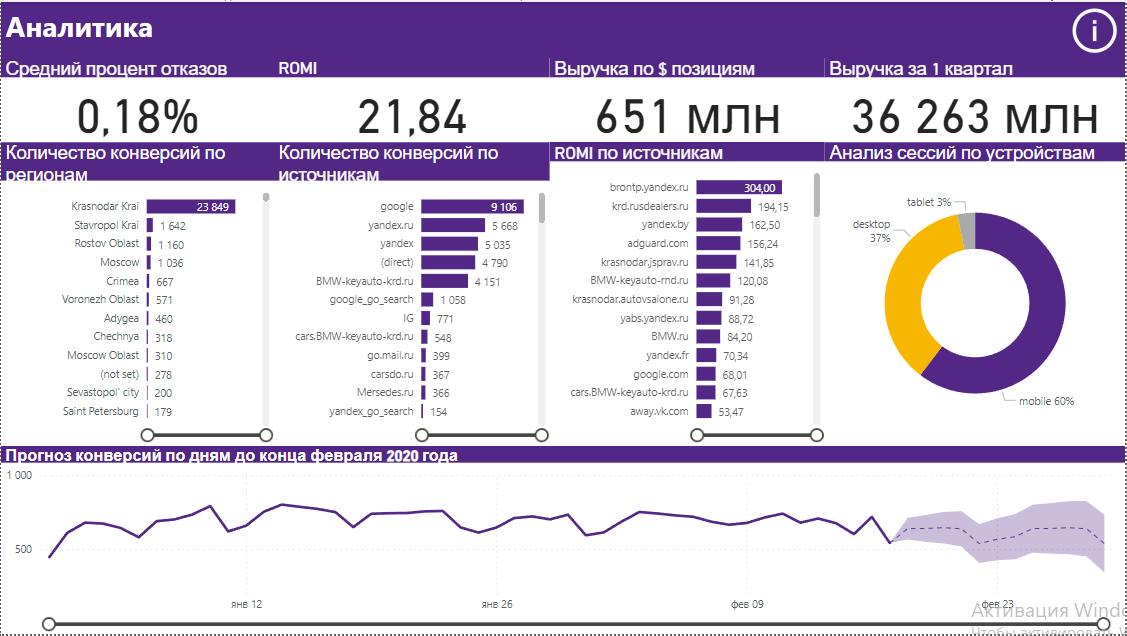

This screenshot's page, from the dashboard's own definition file:
{"tool":"powerbi","page":{"name":"Аналитика","canvas":[1280,720],"ordinal":0},"visuals":[{"type":"textbox","box":[0,0,1280.5,63.8],"z":0},{"type":"barChart","title":"Количество конверсий по регионам","fields":{"Category":["Маркетинговые данные.Region"],"Y":["Sum(Маркетинговые данные.Конверсия)"]},"box":[0,159.5,311,345.2],"z":1000},{"type":"card","title":"Средний процент отказов","fields":{"Values":["Avg(Маркетинговые данные.Bounce Rate)"]},"box":[0,63.8,311,95.7],"z":2000},{"type":"donutChart","title":"Анализ сессий по устройствам","fields":{"Category":["Маркетинговые данные.Device Category"],"Y":["Sum(Маркетинговые данные.Sessions)"]},"box":[938.7,159.5,341.8,345.2],"z":3000},{"type":"barChart","title":"Количество конверсий по источникам","fields":{"Category":["Маркетинговые данные.Source"],"Y":["Sum(Маркетинговые данные.Конверсия)"]},"box":[311,159.5,314.4,345.2],"z":4000},{"type":"card","title":"ROMI","fields":{"Values":["Справочник.ROMI"]},"box":[311,63.8,314.4,95.7],"z":5000},{"type":"card","title":"Выручка по $ позициям","fields":{"Values":["Справочник.Выручка"]},"box":[625.4,63.8,313.3,95.7],"z":6000},{"type":"barChart","title":"ROMI по источникам","fields":{"Category":["Маркетинговые данные.Source"],"Y":["Справочник.ROMI"]},"box":[625.4,159.5,313.3,345.2],"z":7000},{"type":"lineChart","title":"Прогноз конверсий по дням до конца февраля 2020 года","fields":{"Category":["Маркетинговые данные.Date.Изменение.Иерархия дат.Год","Маркетинговые данные.Date.Изменение.Иерархия дат.Месяц","Маркетинговые данные.Date.Изменение.Иерархия дат.День"],"Y":["Sum(Маркетинговые данные.Конверсия)"]},"box":[0,505.8,1280.5,214.2],"z":8000},{"type":"card","title":"Выручка за 1 квартал","fields":{"Values":["Справочник.Выручка за 1 квартал"]},"box":[938.7,63.8,341.8,95.7],"z":9000},{"type":"actionButton","box":[1214.4,1.1,66.1,62.7],"z":10000}]}

Visuals, with their boxes on the page's 1280x720 design canvas (x1, y1, x2, y2). These are canvas units, not pixel positions in the 1127x636 screenshot, which may show the page scaled, cropped or inside an application window:
textbox: (left=0, top=0, right=1280, bottom=64)
"Количество конверсий по регионам" barChart: (left=0, top=160, right=311, bottom=505)
"Средний процент отказов" card: (left=0, top=64, right=311, bottom=160)
"Анализ сессий по устройствам" donutChart: (left=939, top=160, right=1280, bottom=505)
"Количество конверсий по источникам" barChart: (left=311, top=160, right=625, bottom=505)
"ROMI" card: (left=311, top=64, right=625, bottom=160)
"Выручка по $ позициям" card: (left=625, top=64, right=939, bottom=160)
"ROMI по источникам" barChart: (left=625, top=160, right=939, bottom=505)
"Прогноз конверсий по дням до конца февраля 2020 года" lineChart: (left=0, top=506, right=1280, bottom=720)
"Выручка за 1 квартал" card: (left=939, top=64, right=1280, bottom=160)
actionButton: (left=1214, top=1, right=1280, bottom=64)
